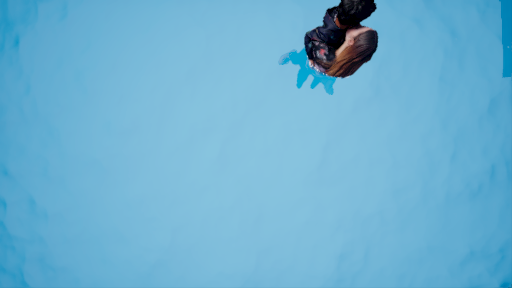person: (299, 5, 373, 98)
